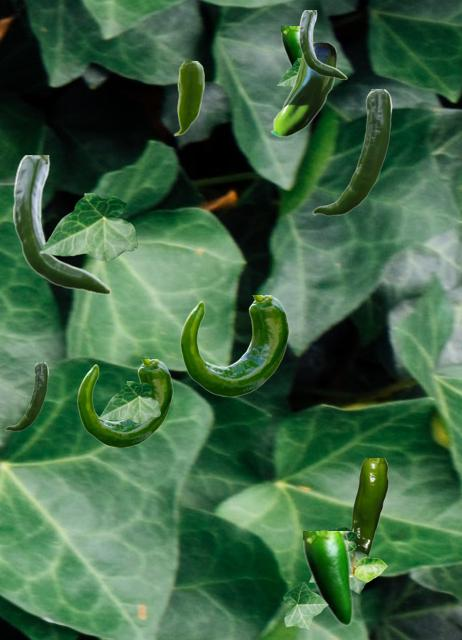green_chili: (13, 155, 110, 293), (180, 295, 288, 395), (312, 89, 391, 215), (77, 359, 172, 446), (270, 42, 335, 136), (303, 531, 352, 625), (350, 458, 387, 556), (299, 10, 346, 78), (5, 362, 47, 430), (173, 61, 203, 135), (281, 26, 301, 66)
